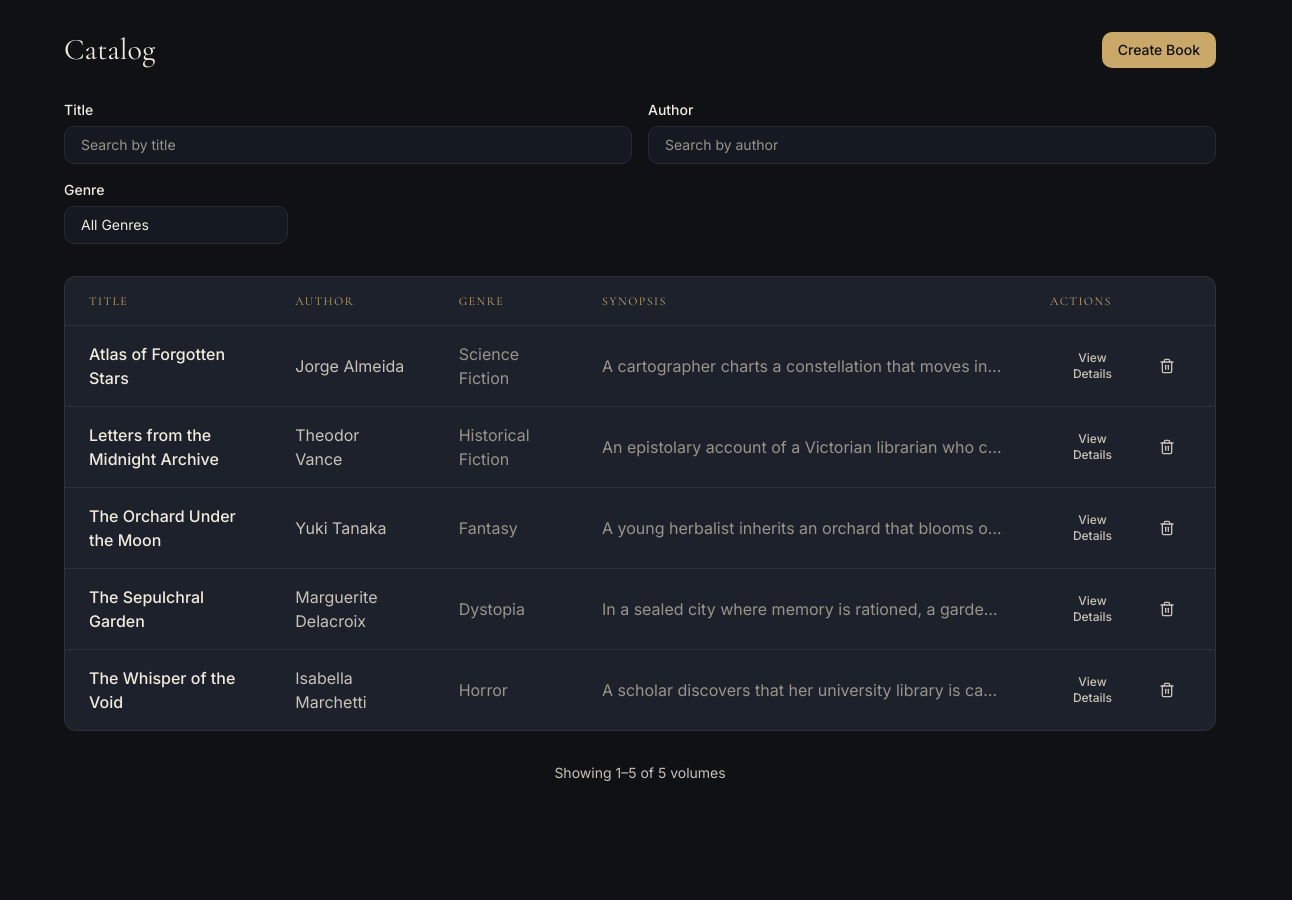
it: CreateBookPage › navigates from the catalog to the create page
The width and height of the screenshot is (1292, 900).
Click the link "Create Book" at (1159, 50), box [1102,32,1216,68]
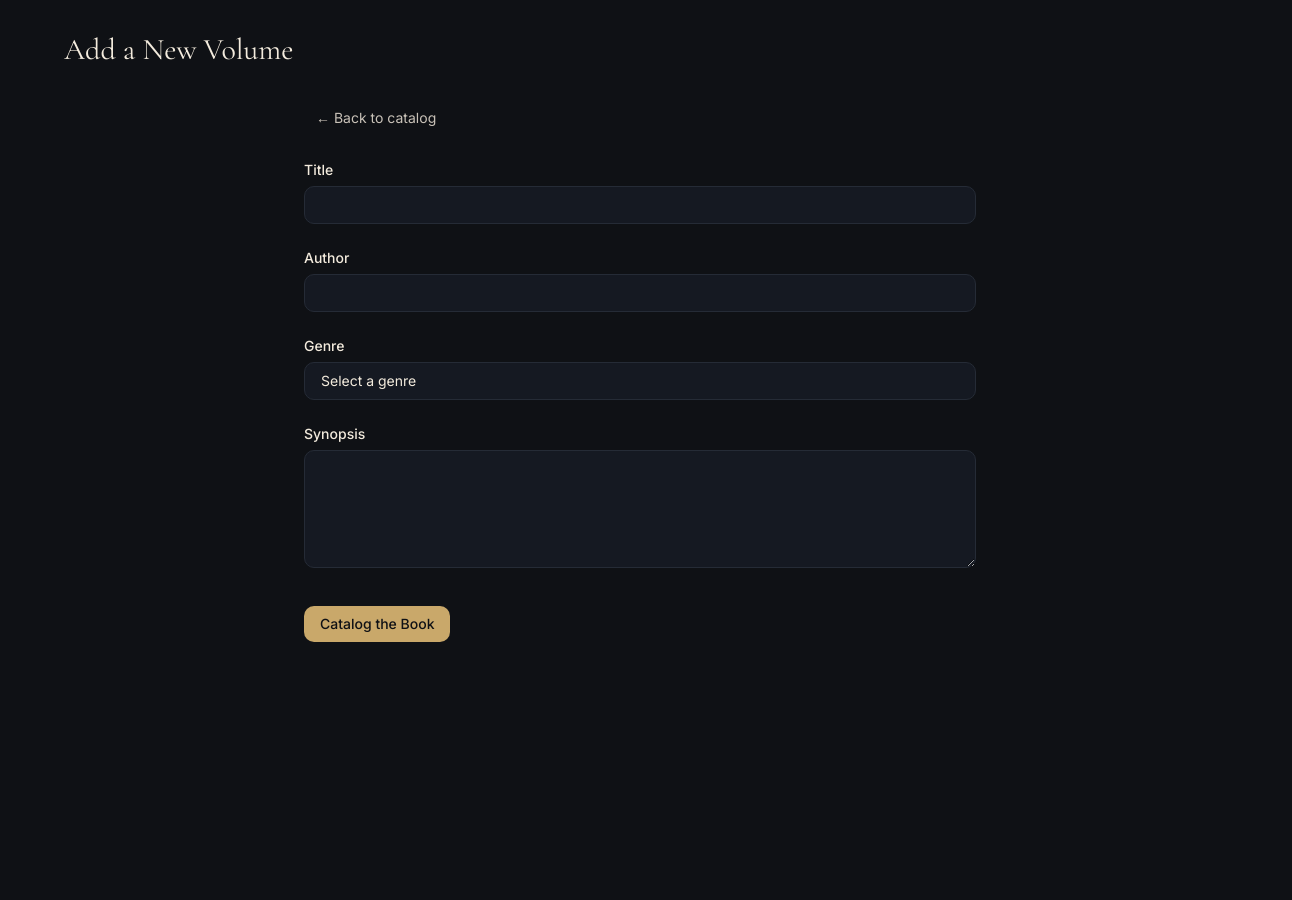
Expected: the heading "Add a New Volume" is shown, [64,31,294,68]
